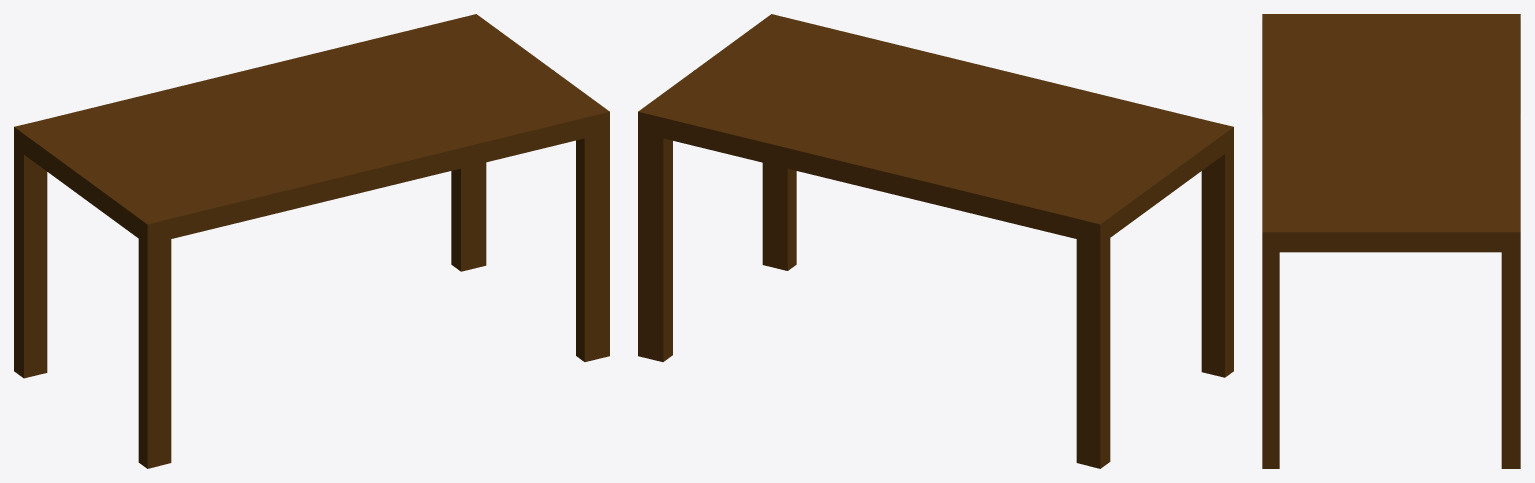
Rendered from ma-table.obj.
3 views of the same model, side by side, from view 1: azimuth 30°, elevation 25°; view 2: azimuth 150°, elevation 25°; view 3: azimuth 270°, elevation 25° (orthographic). The views are drawn at different scales.
Visible parts, largest first — view 1: Box; view 2: Box; view 3: Box.
Part boxes in pixels (x1,y1,x2,y2): Box: (14,14,609,468); Box: (638,14,1233,468); Box: (1262,14,1520,468).
Size of the model in its own units: 2 by 1.01 by 1.
